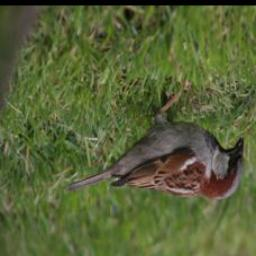Sparrow: (65, 78, 247, 202)
